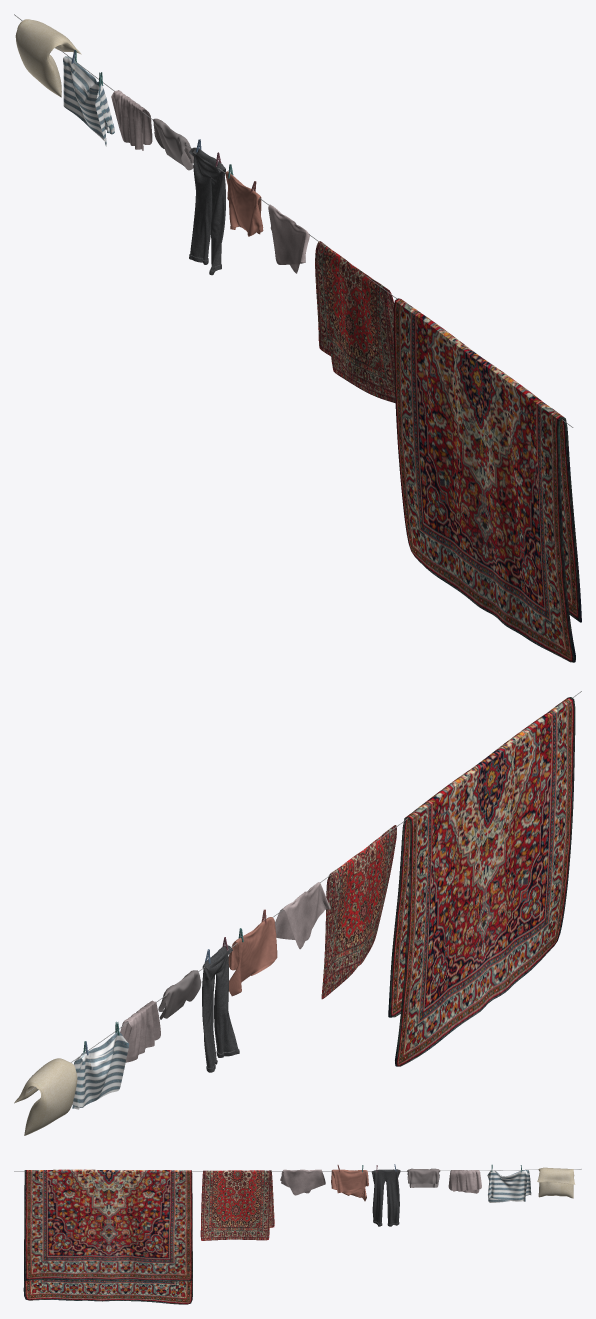
File: clothes_line.glb
The picture shows the model from 3 angles, top to bottom: view 1: azimuth 30°, elevation 25°; view 2: azimuth 150°, elevation 25°; view 3: azimuth 270°, elevation 25°; orthographic projection. The views are drawn at different scales.
Parts seen in each view (by area): view 1: Clothes_ModelMain_2; view 2: Clothes_ModelMain_2; view 3: Clothes_ModelMain_2.
Part boxes in pixels (box(x1,y1,x2,y2)): Clothes_ModelMain_2: box(15, 19, 581, 662); Clothes_ModelMain_2: box(14, 697, 575, 1135); Clothes_ModelMain_2: box(23, 1167, 575, 1304).
Size of the model in its own units: 0.2822 by 1.79 by 6.7.
Materials: 4 (2 with a texture image).
